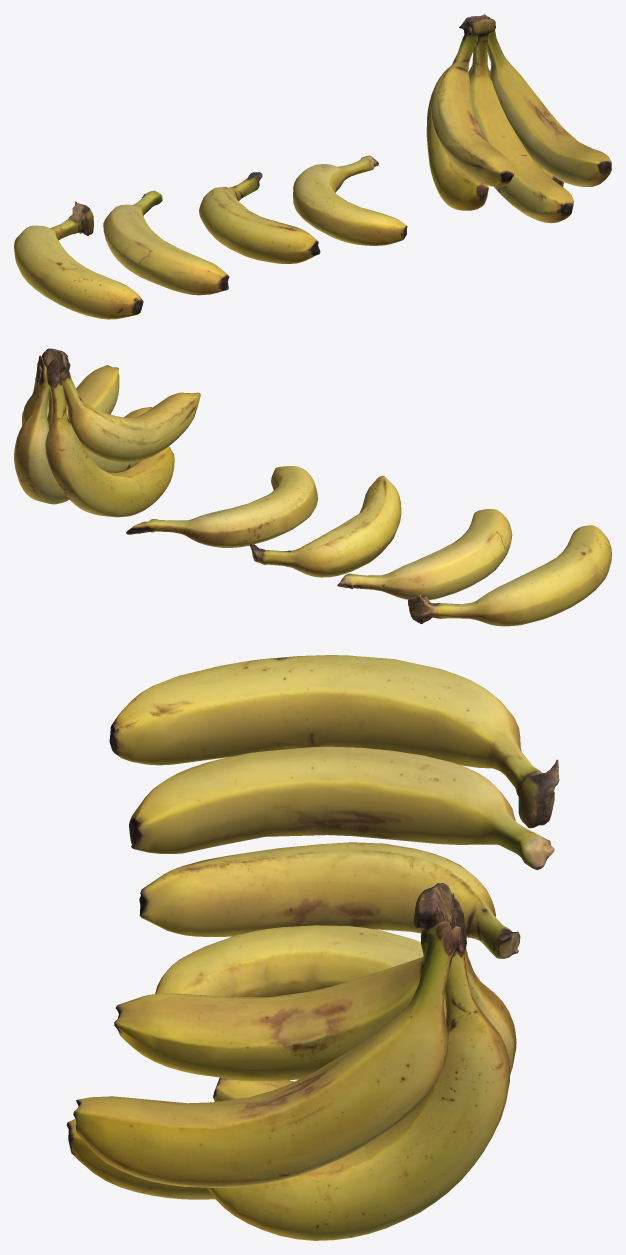
The model's file is bananas.glb.
3 views of the same model, one above another, from view 1: azimuth 30°, elevation 25°; view 2: azimuth 150°, elevation 25°; view 3: azimuth 270°, elevation 25° (orthographic). The views are drawn at different scales.
Visible parts, largest first — view 1: bananas_bunch; view 2: bananas_bunch; view 3: bananas_bunch.
Boxes of the visible parts, x1,y1,x2,y2 form: bananas_bunch: (14, 14, 611, 319); bananas_bunch: (14, 348, 611, 626); bananas_bunch: (67, 655, 559, 1240).
Bounding box in the file's own units: 0.5998 × 0.1787 × 0.244.
Materials: 1 (1 with a texture image).
